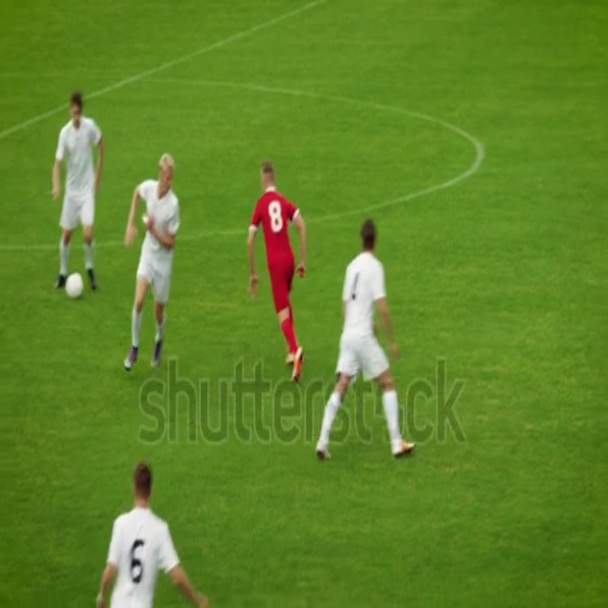ball: (66, 271, 83, 300)
